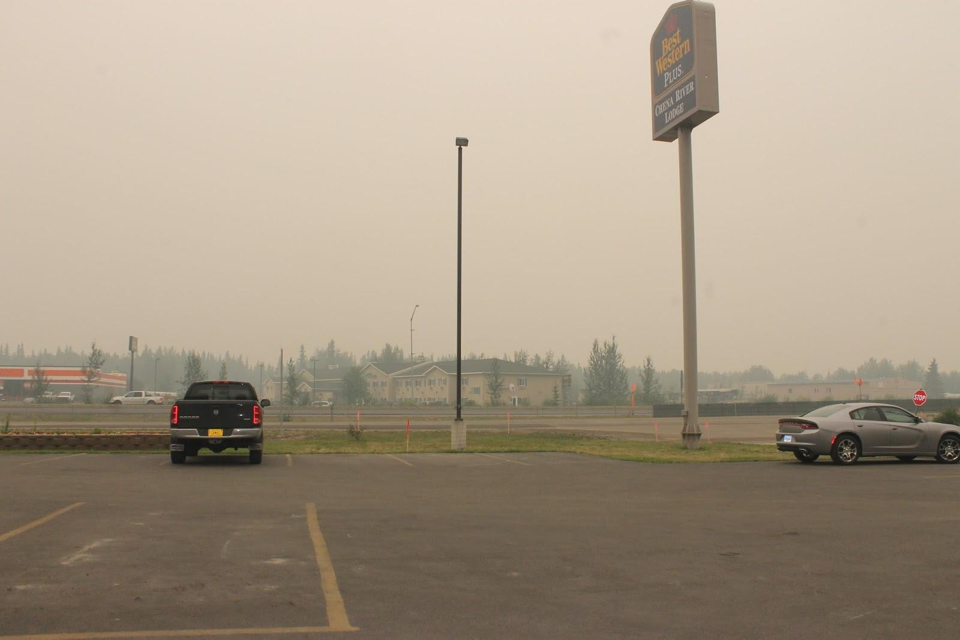airplane: (0, 366, 127, 400)
bench: (680, 414, 701, 447)
bird: (910, 387, 927, 408)
bus: (773, 402, 946, 466), (167, 379, 264, 465), (16, 369, 128, 402), (39, 380, 120, 403), (107, 389, 166, 406)
car: (773, 402, 958, 465), (170, 380, 264, 464), (117, 385, 185, 407), (107, 389, 164, 406), (127, 388, 175, 403), (878, 405, 917, 422), (84, 371, 125, 387), (105, 389, 138, 407)
kite: (910, 387, 927, 408)
motorcycle: (168, 381, 264, 465)
person: (169, 379, 263, 464), (910, 387, 926, 416), (625, 381, 637, 413)
sports ball: (910, 387, 927, 409)
traffic light: (910, 387, 927, 408)
train: (168, 381, 264, 465)
truck: (773, 402, 958, 465), (168, 380, 263, 465), (39, 380, 120, 403), (107, 389, 164, 406)
